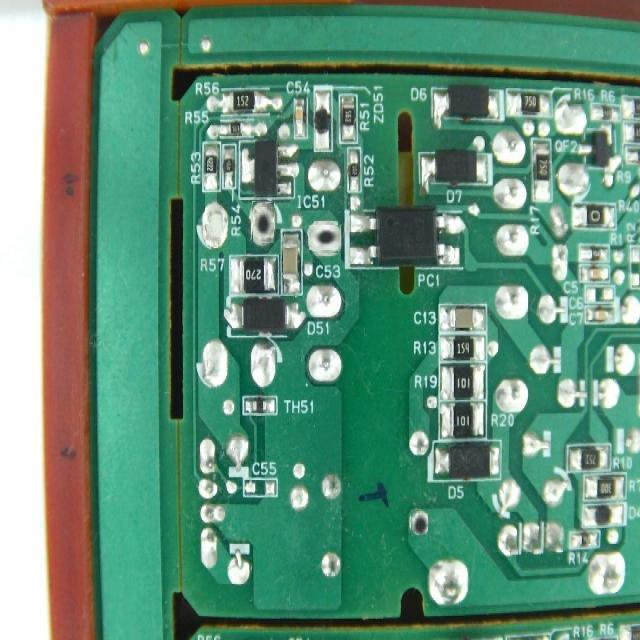damged: (252, 202, 274, 244), (310, 223, 340, 252), (410, 510, 428, 535)
